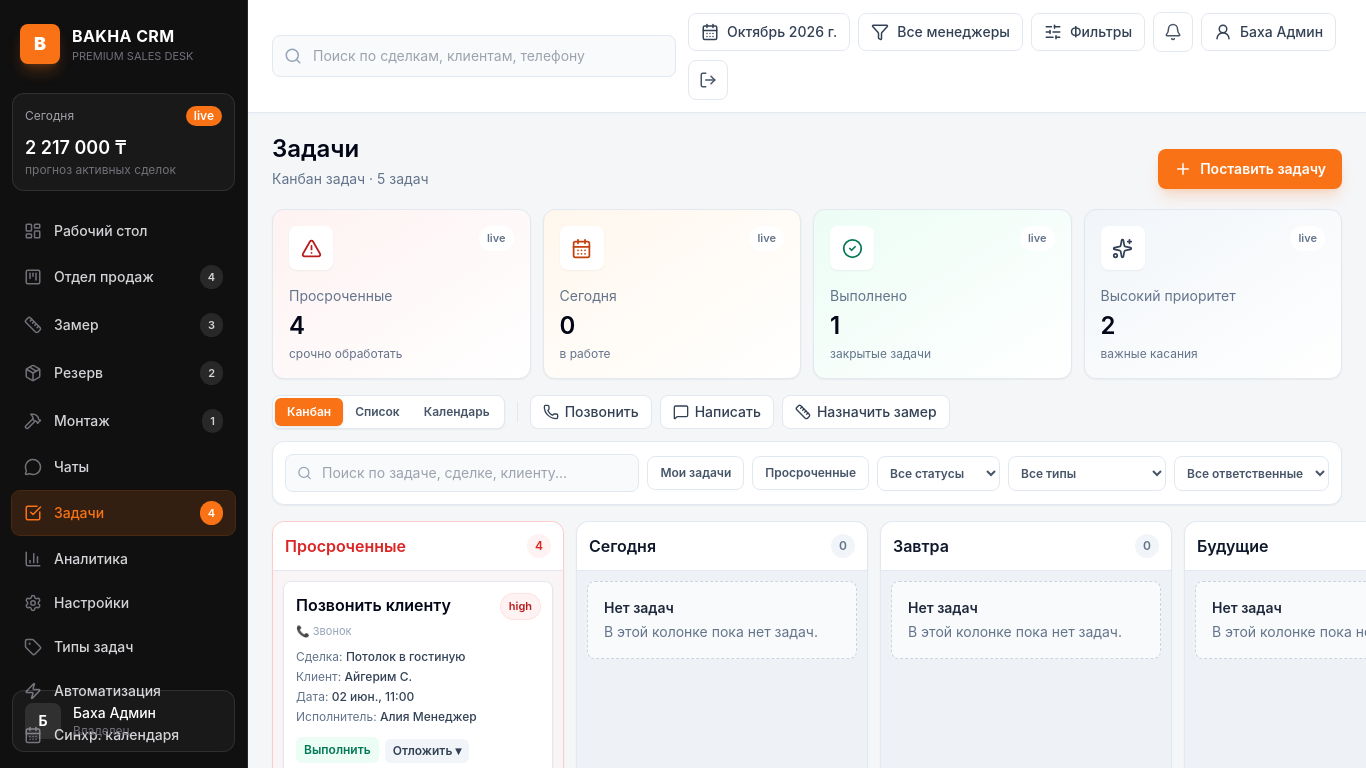
Test: Bakha CRM smoke › quick Написать opens create task modal with message type prefilled
The image size is (1366, 768).
Check: the heading "Задачи" is shown, box [272,134,359,163]
Click the button "Написать" at x=717, y=412, box [660,395,774,429]
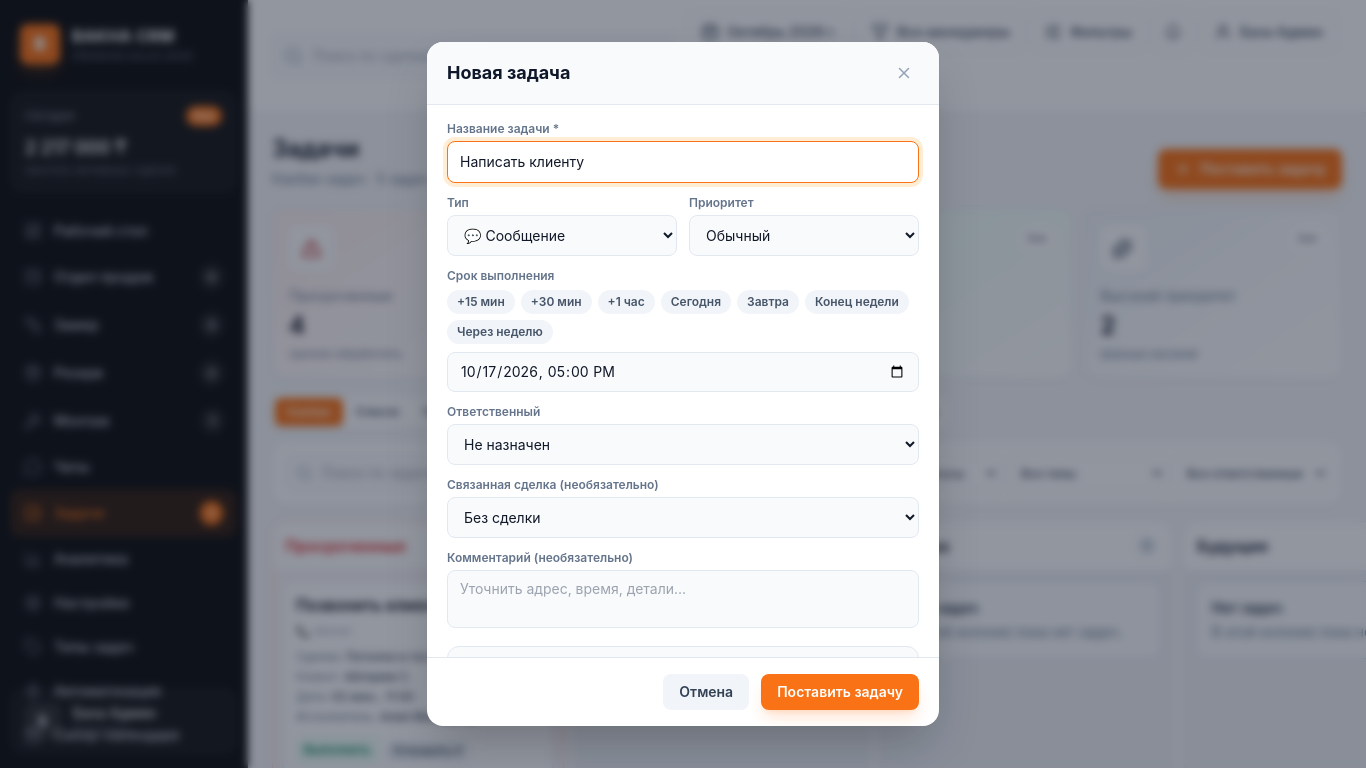
Check: the heading "Новая задача" is shown, box [447,58,570,86]
Check: the field with placeholder "Позвонить клиенту, Назначить замер..." below "Название задачи *" holds "Написать клиенту", box [447,140,919,182]
